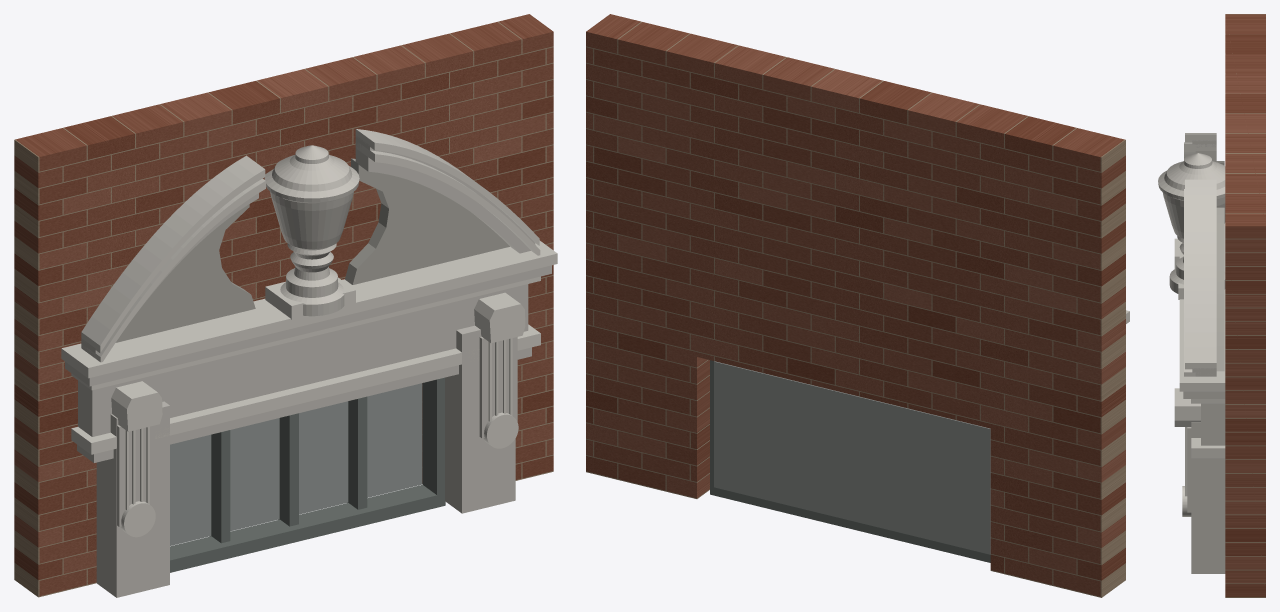
File: wukang-376-broken-pediment-and-urn-near.glb
3 renders of one model, left to right at view 1: azimuth 30°, elevation 25°; view 2: azimuth 150°, elevation 25°; view 3: azimuth 270°, elevation 25°, orthographic. The views are drawn at different scales.
Parts seen in each view (by area): view 1: 武康路376号住宅断弧门楣与石瓶; view 2: 武康路376号住宅断弧门楣与石瓶; view 3: 武康路376号住宅断弧门楣与石瓶.
Part boxes in pixels (box(x1,y1,x2,y2)): 武康路376号住宅断弧门楣与石瓶: box(14, 14, 557, 597); 武康路376号住宅断弧门楣与石瓶: box(586, 14, 1129, 597); 武康路376号住宅断弧门楣与石瓶: box(1158, 14, 1265, 597).
Bounding box in the file's own units: 2.34 × 1.93 × 0.503.
Materials: 6 (1 with a texture image).
